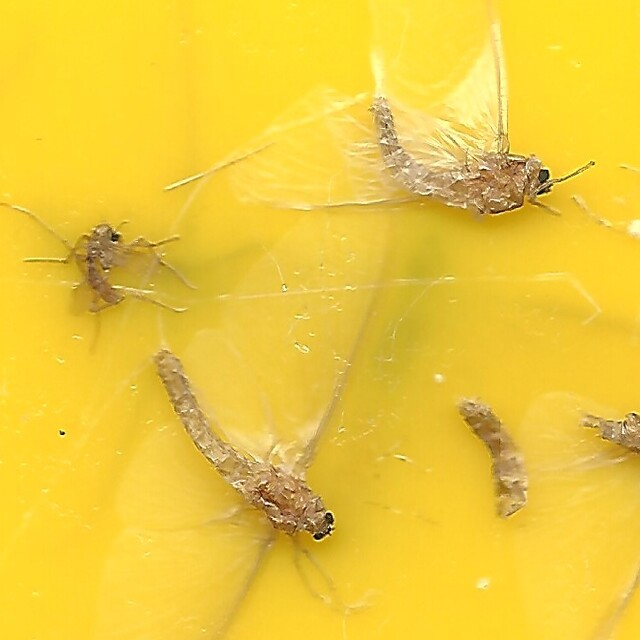Ephemeroptera: (152, 352, 339, 545), (371, 95, 555, 217)
Nematocera: (85, 220, 130, 309)
